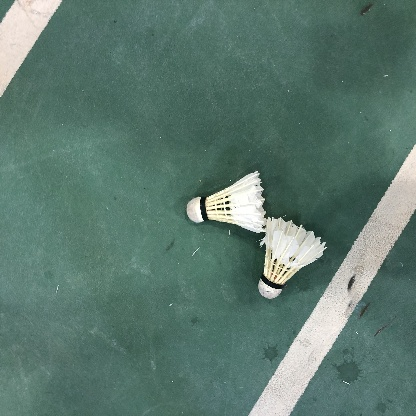ball_single: (258, 217, 326, 299), (186, 171, 268, 233)
